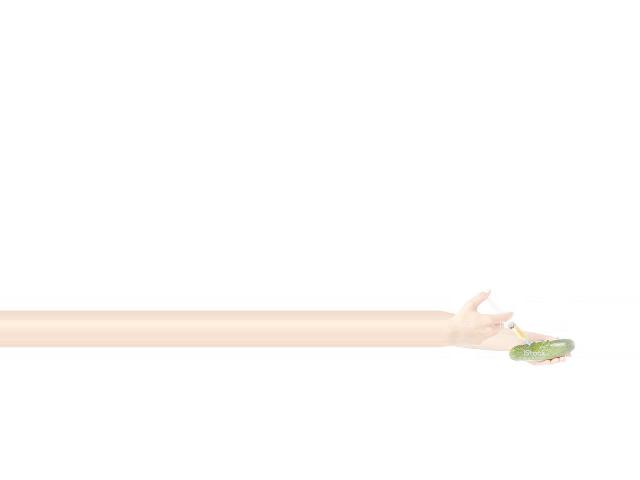cucumber: (509, 339, 576, 360)
